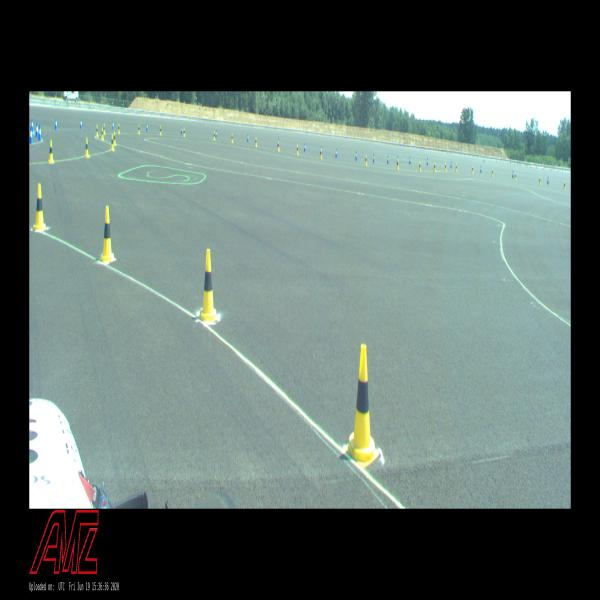blue_cone: (29, 127, 33, 143), (38, 125, 42, 140), (31, 119, 34, 132), (55, 118, 58, 129), (320, 146, 323, 156), (386, 155, 389, 164), (112, 121, 115, 129), (372, 154, 375, 162), (355, 152, 358, 160), (36, 124, 38, 136), (426, 158, 429, 165), (396, 154, 398, 164), (304, 143, 306, 152), (146, 123, 148, 132), (80, 120, 82, 128), (181, 126, 183, 134), (247, 134, 249, 142), (409, 156, 411, 164), (216, 130, 218, 138), (277, 138, 279, 146), (512, 170, 514, 178), (480, 166, 482, 173), (547, 177, 549, 184), (451, 160, 452, 168), (336, 149, 337, 157)
yellow_cone: (347, 344, 379, 467), (200, 250, 216, 321), (101, 206, 114, 261), (33, 184, 45, 229), (48, 140, 54, 162), (85, 138, 89, 157), (111, 134, 114, 150), (113, 132, 116, 145), (101, 127, 104, 140), (103, 123, 106, 134), (396, 159, 399, 170), (95, 126, 98, 136), (418, 162, 421, 171), (444, 162, 447, 171), (491, 168, 494, 176), (138, 124, 140, 134), (296, 144, 298, 154), (118, 124, 120, 134), (255, 137, 257, 147), (320, 149, 322, 159), (365, 155, 367, 165), (213, 131, 215, 140), (564, 181, 566, 190), (184, 128, 186, 136), (160, 126, 162, 134), (231, 134, 233, 142), (278, 142, 280, 150), (471, 166, 473, 173), (538, 178, 540, 185), (434, 163, 435, 172), (456, 164, 457, 172), (515, 172, 516, 180)
